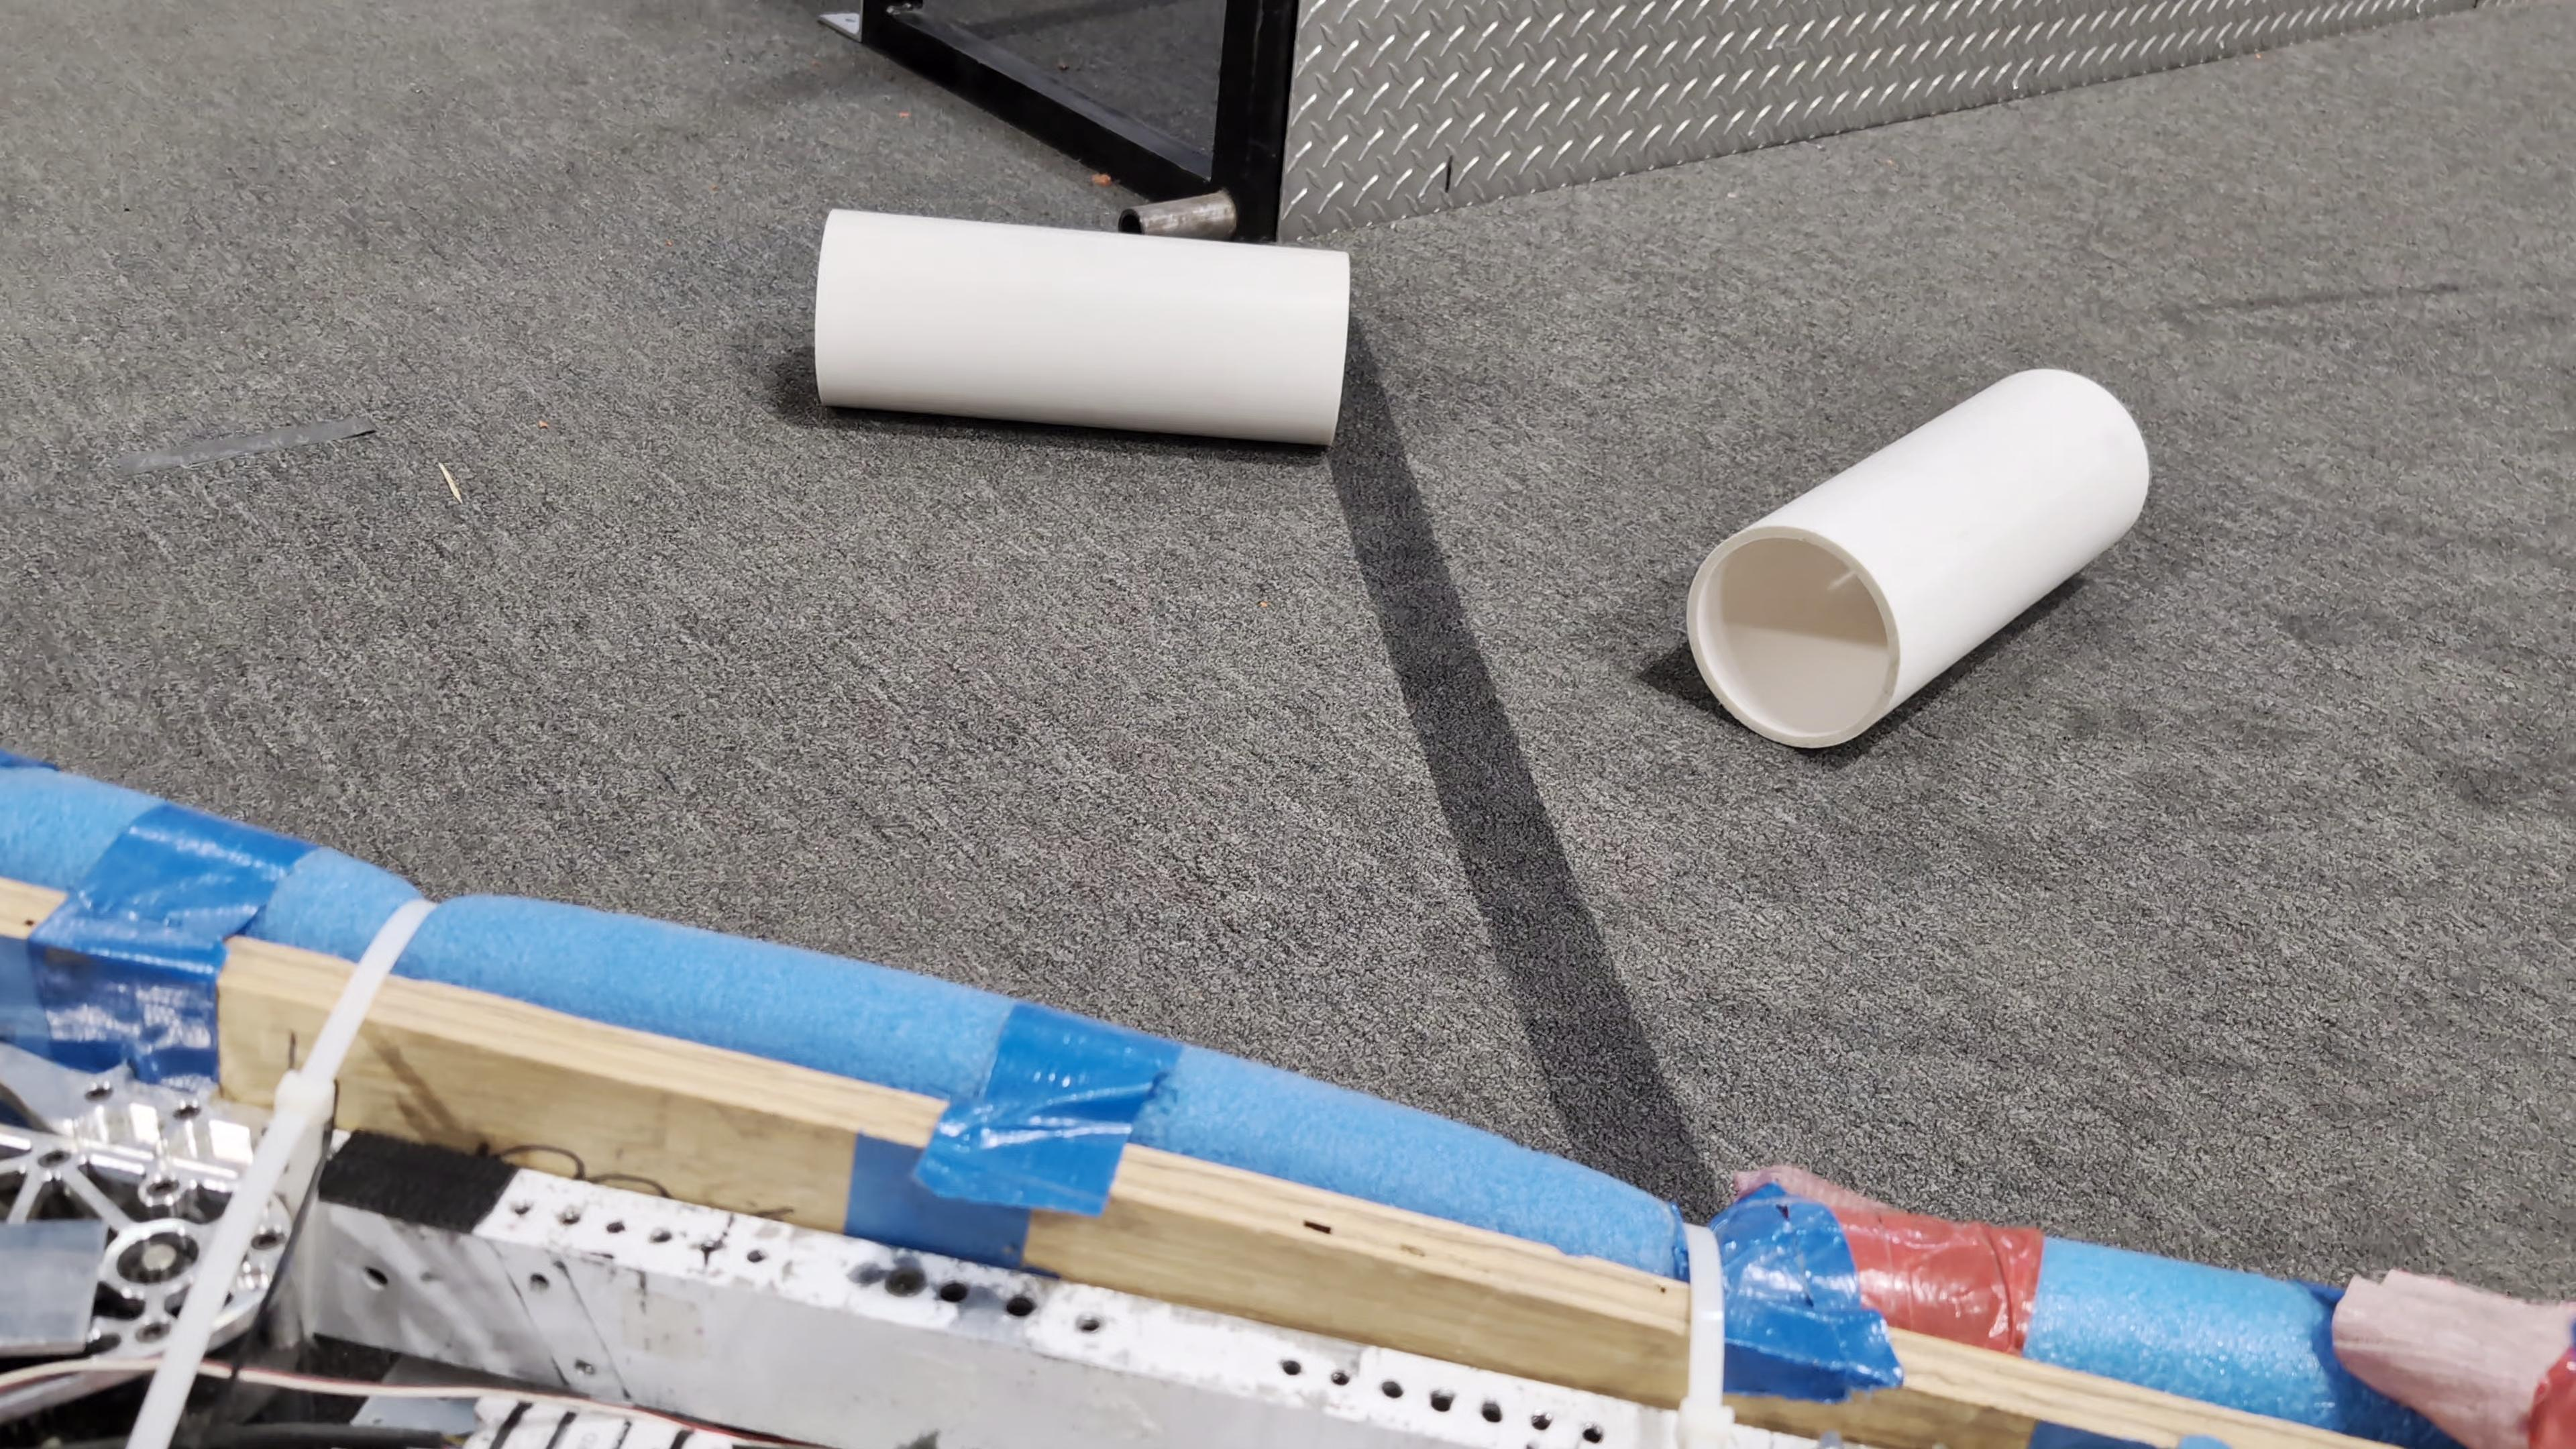coral: (1684, 361, 2153, 748), (809, 203, 1352, 446)
